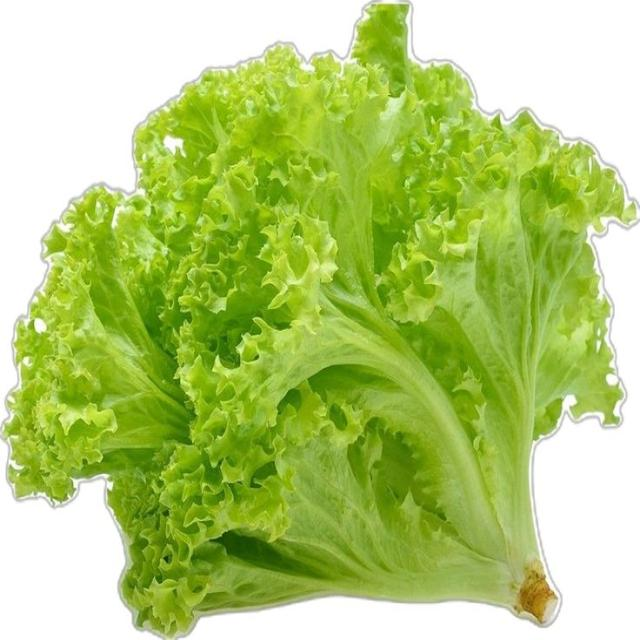lettuce: (4, 5, 635, 635)
